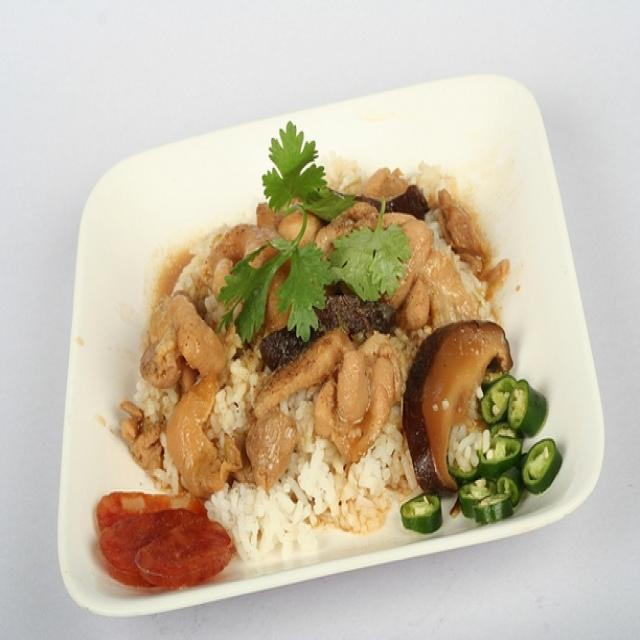米饭主食: (112, 138, 540, 560)
